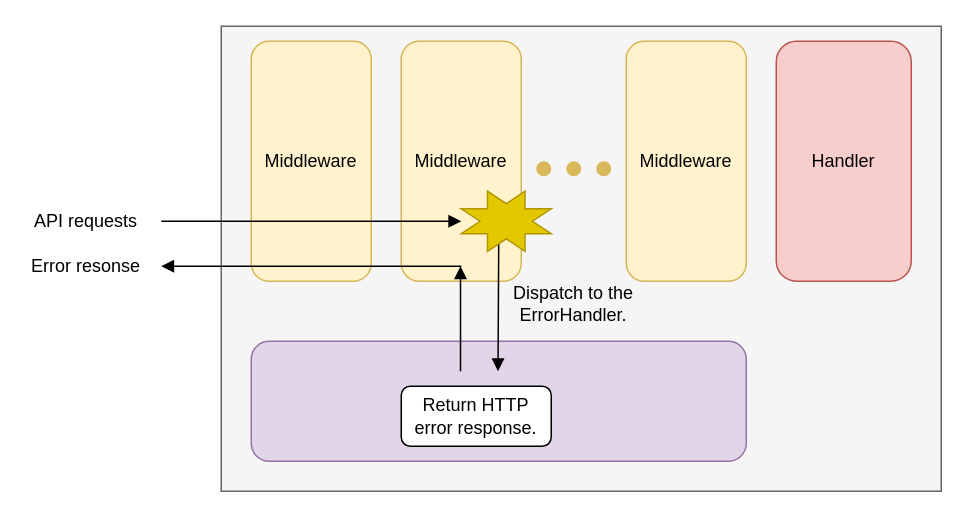
Some shapes in this 968 by 518 pixel diagram are drawn without their labels. Each missing label, with the box of its shape:
Error ocurres: (460, 190, 551, 251)
ErrorHandler: (250, 340, 746, 461)
